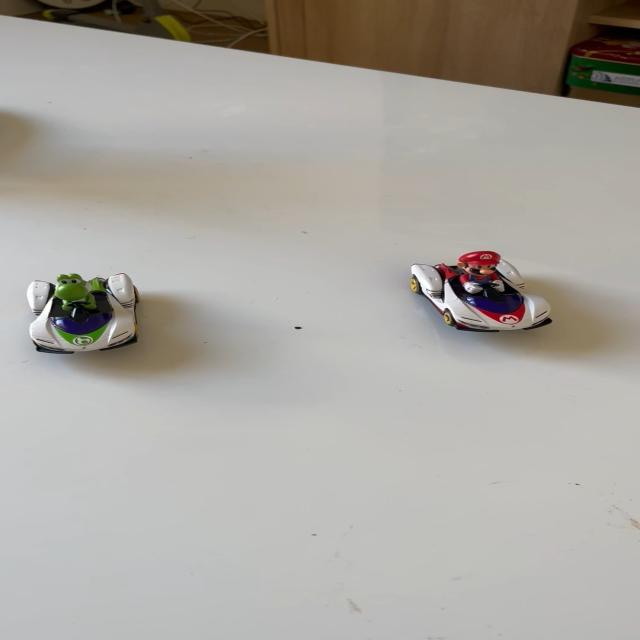mario: (387, 240, 573, 341)
yoshi: (7, 261, 146, 364)
